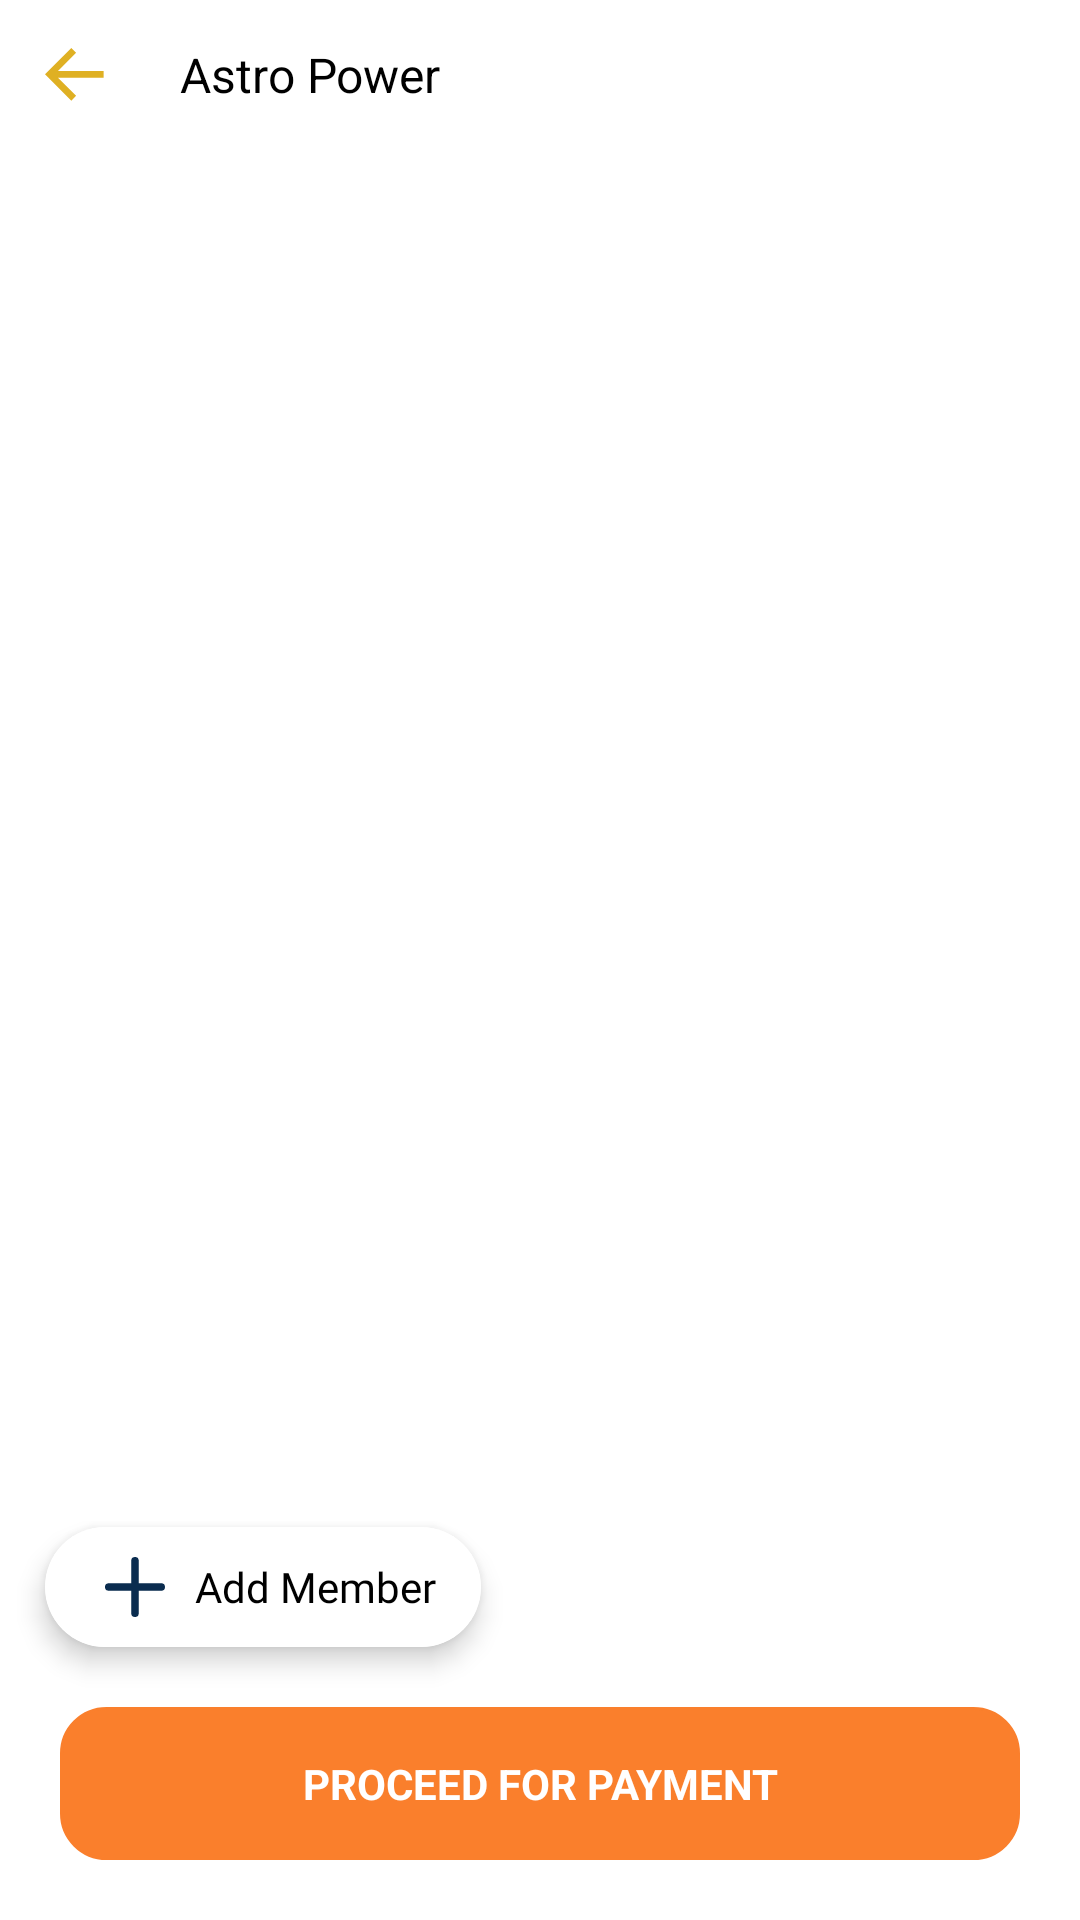

Where icons sit on this 1080x1920 app screen, as bbox=(x1, y1, x2, y2):
arrow back: bbox=(45, 48, 104, 101)
